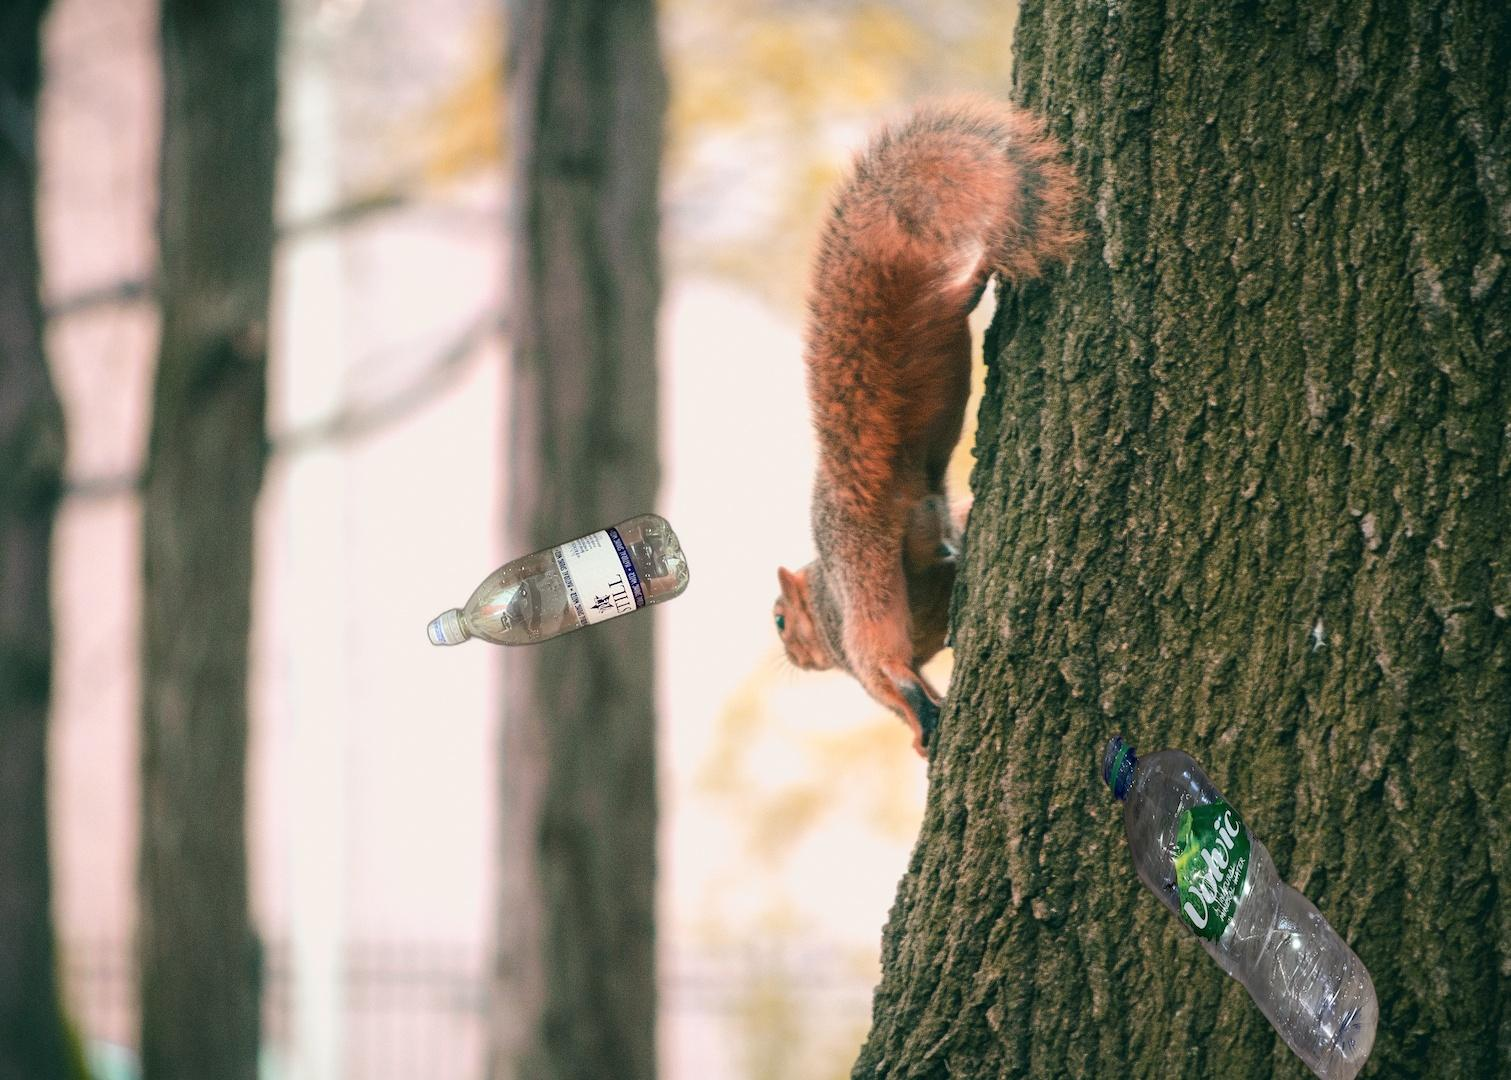plastic-bottles: (1097, 725, 1386, 1080), (423, 508, 694, 651)
